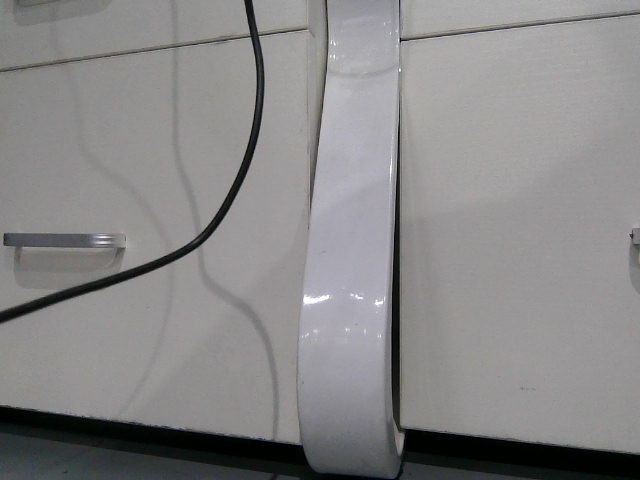car: (295, 193, 495, 413)
